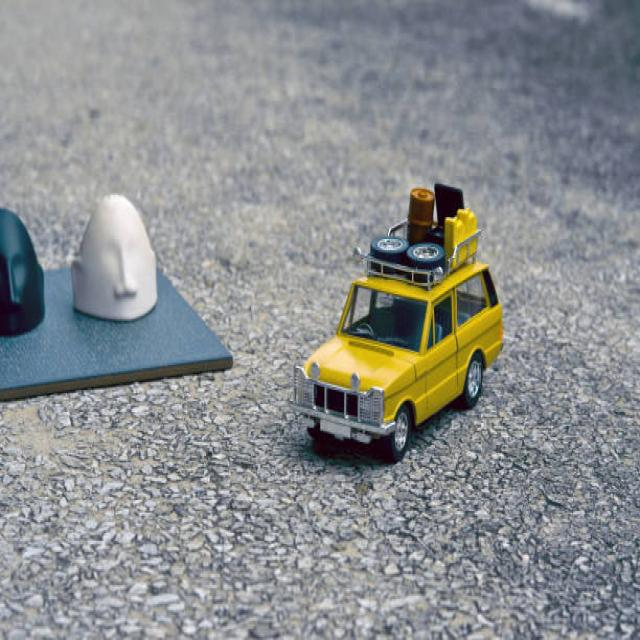Car: (287, 181, 503, 462)
